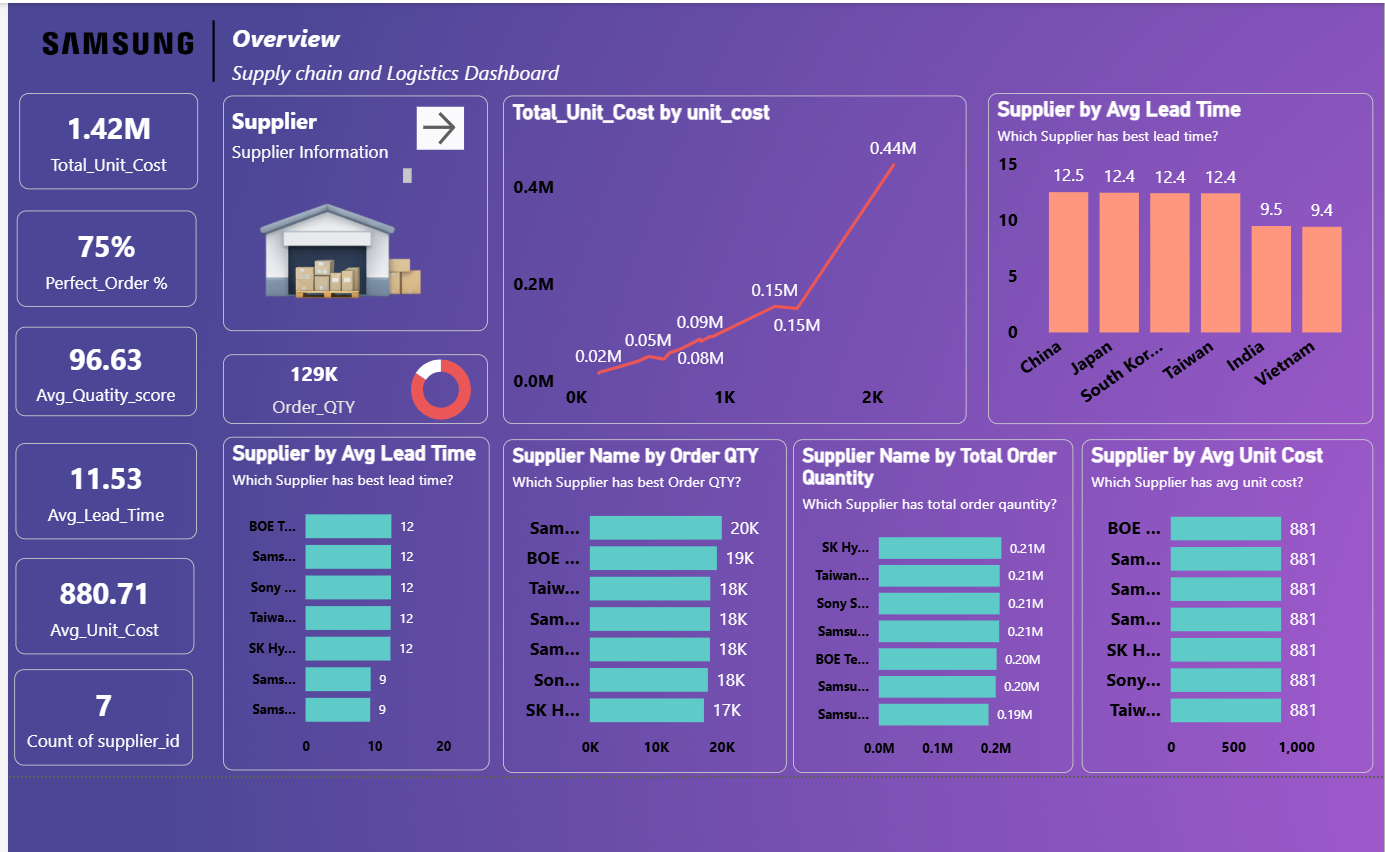

What the dashboard file says about the page in this screenshot:
{"tool":"powerbi","page":{"name":"Supplier","canvas":[1280,720],"ordinal":2},"visuals":[{"type":"textbox","title":"Overview","box":[203.5,16.3,409.3,67.4],"z":0},{"type":"shape","box":[169.8,16.3,43,57],"z":1000},{"type":"image","box":[20.9,1.2,155.8,72.1],"z":2000},{"type":"card","fields":{"Values":["MeasuresTable.Perfect_Order %"]},"box":[7.8,193.4,167.4,89.5],"z":3000},{"type":"card","fields":{"Values":["MeasuresTable.Avg_Quatity_score"]},"box":[6.5,301.1,168.7,83.1],"z":4000},{"type":"card","fields":{"Values":["MeasuresTable.Avg_Lead_Time"]},"box":[6.5,408.8,168.7,89.5],"z":5000},{"type":"card","fields":{"Values":["MeasuresTable.Avg_Unit_Cost"]},"box":[6.5,516.5,166.1,89.5],"z":6000},{"type":"card","fields":{"Values":["MeasuresTable.Total_Unit_Cost"]},"box":[11,84,166.6,89.5],"z":7000},{"type":"clusteredBarChart","title":"Supplier by Avg Lead Time","fields":{"Category":["dim_supplier.supplier_name"],"Y":["MeasuresTable.Avg_Lead_Time"]},"box":[200,403.5,247.7,310.5],"z":9000},{"type":"clusteredBarChart","title":"Supplier Name by Order QTY","fields":{"Category":["dim_supplier.supplier_name"],"Y":["MeasuresTable.Order_QTY"]},"box":[460.5,405.8,264,310.5],"z":10000},{"type":"clusteredBarChart","title":"Supplier Name by Total Order Quantity","fields":{"Category":["dim_supplier.supplier_name"],"Y":["MeasuresTable.Total_Unit_Cost"]},"box":[730.2,405.8,260.5,310.5],"z":11000},{"type":"clusteredColumnChart","title":"Supplier by Avg Lead Time","fields":{"Category":["dim_supplier.country"],"Y":["MeasuresTable.Avg_Lead_Time"]},"box":[911.6,83.7,358.1,308.1],"z":12000},{"type":"lineChart","fields":{"Category":["dim_product.unit_cost"],"Y":["MeasuresTable.Total_Unit_Cost"]},"box":[460.5,86,431.4,305.8],"z":13000},{"type":"clusteredBarChart","title":"Supplier by Avg Unit Cost","fields":{"Category":["dim_supplier.supplier_name"],"Y":["MeasuresTable.Avg_Unit_Cost"]},"box":[998.8,405.8,270.9,310.5],"z":14000},{"type":"shape","box":[199.5,86.1,246.6,219.3],"z":15000},{"type":"image","box":[212.5,154.9,201.2,138.9],"z":16000},{"type":"actionButton","box":[379.9,96.5,44.1,40.2],"z":17000},{"type":"textbox","title":"Supplier","box":[203.5,95.3,176.7,76.7],"z":18000},{"type":"shape","box":[199.5,326.4,246.6,64.9],"z":19000},{"type":"card","fields":{"Values":["MeasuresTable.Order_QTY"]},"box":[215.1,323.8,138.9,67.5],"z":20000},{"type":"donutChart","fields":{"Y":["MeasuresTable.Order_QTY","MeasuresTable.Defect_Rate"]},"box":[345.3,316.3,115.1,87.2],"z":21000},{"type":"card","fields":{"Values":["CountNonNull(dim_supplier.supplier_id)"]},"box":[5.8,619.8,166.3,89.5],"z":22000}]}

Visuals, with their boxes on the page's 1280x720 design canvas (x1, y1, x2, y2). These are canvas units, not pixel positions in the 1385x852 screenshot, which may show the page scaled, cropped or inside an application window:
"Overview" textbox: locate(204, 16, 613, 84)
shape: locate(170, 16, 213, 73)
image: locate(21, 1, 177, 73)
card - MeasuresTable.Perfect_Order %: locate(8, 193, 175, 283)
card - MeasuresTable.Avg_Quatity_score: locate(6, 301, 175, 384)
card - MeasuresTable.Avg_Lead_Time: locate(6, 409, 175, 498)
card - MeasuresTable.Avg_Unit_Cost: locate(6, 516, 173, 606)
card - MeasuresTable.Total_Unit_Cost: locate(11, 84, 178, 174)
"Supplier by Avg Lead Time" clusteredBarChart: locate(200, 404, 448, 714)
"Supplier Name by Order QTY" clusteredBarChart: locate(460, 406, 724, 716)
"Supplier Name by Total Order Quantity" clusteredBarChart: locate(730, 406, 991, 716)
"Supplier by Avg Lead Time" clusteredColumnChart: locate(912, 84, 1270, 392)
lineChart - dim_product.unit_cost x MeasuresTable.Total_Unit_Cost: locate(460, 86, 892, 392)
"Supplier by Avg Unit Cost" clusteredBarChart: locate(999, 406, 1270, 716)
shape: locate(200, 86, 446, 305)
image: locate(212, 155, 414, 294)
actionButton: locate(380, 96, 424, 137)
"Supplier" textbox: locate(204, 95, 380, 172)
shape: locate(200, 326, 446, 391)
card - MeasuresTable.Order_QTY: locate(215, 324, 354, 391)
donutChart - MeasuresTable.Order_QTY x MeasuresTable.Defect_Rate: locate(345, 316, 460, 404)
card - CountNonNull(dim_supplier.supplier_id): locate(6, 620, 172, 709)
